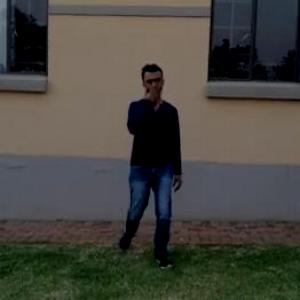follow: (120, 62, 182, 259)
